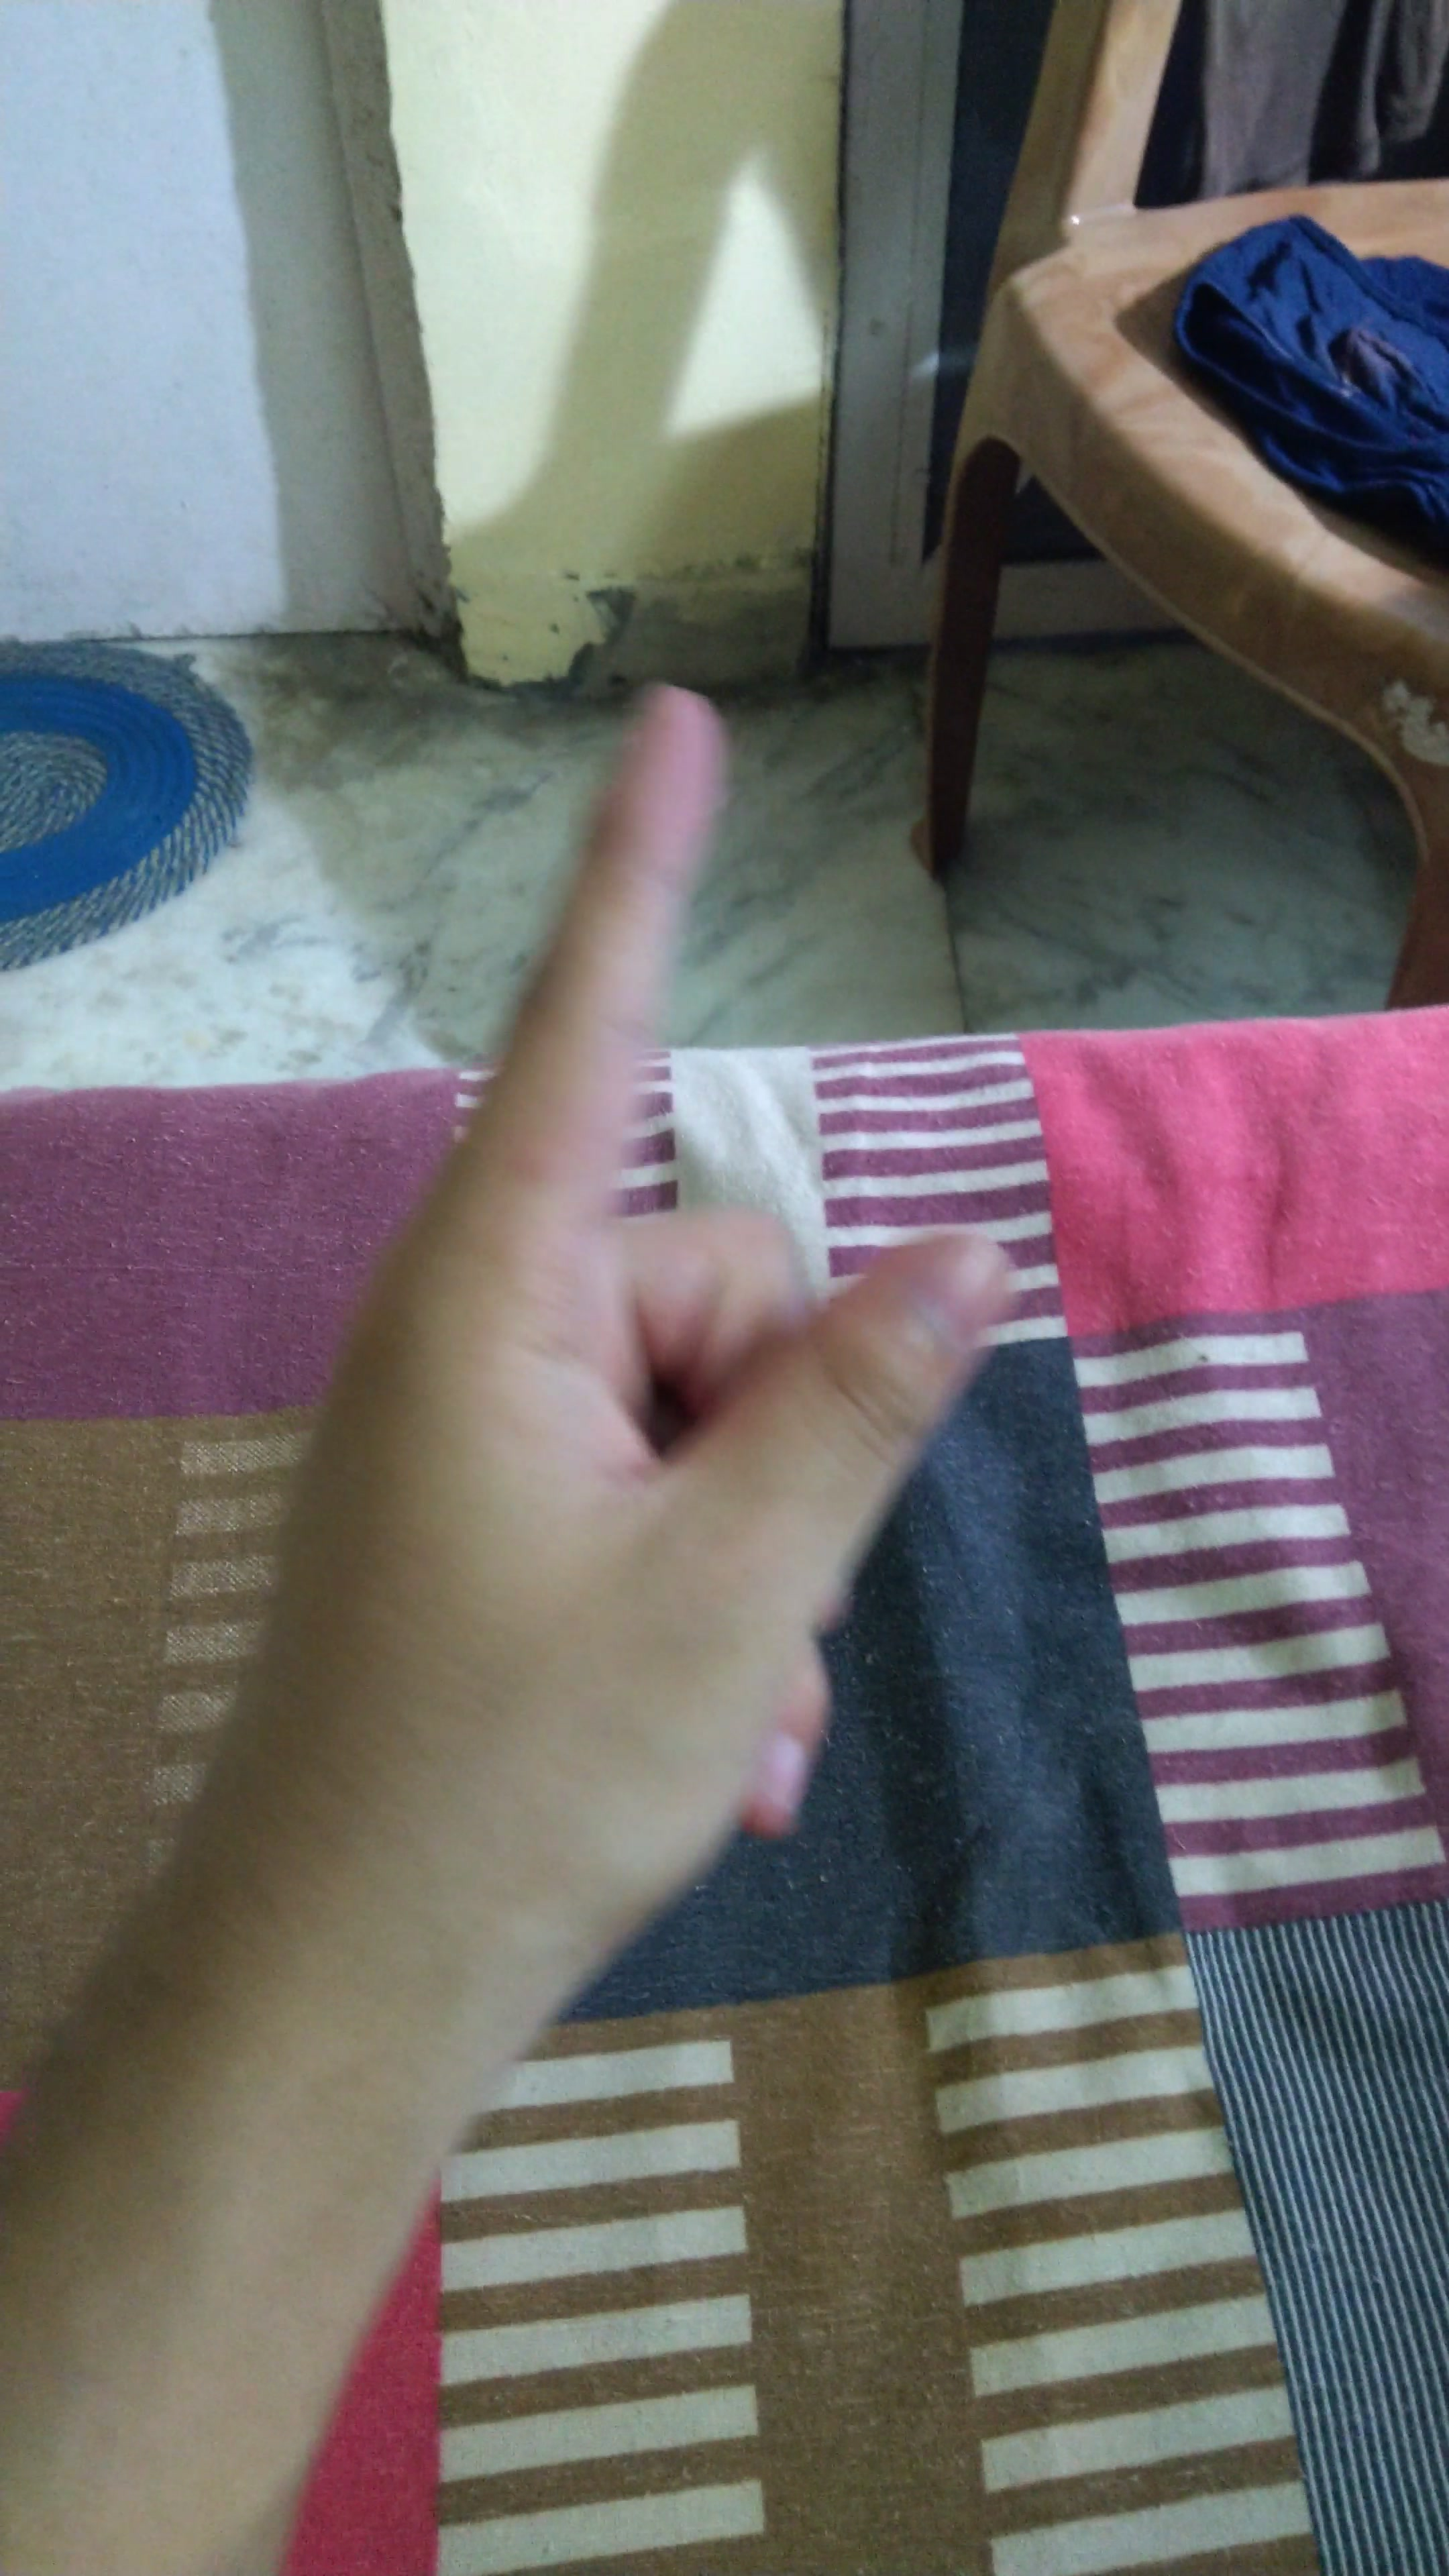hand: (239, 662, 1049, 2059)
